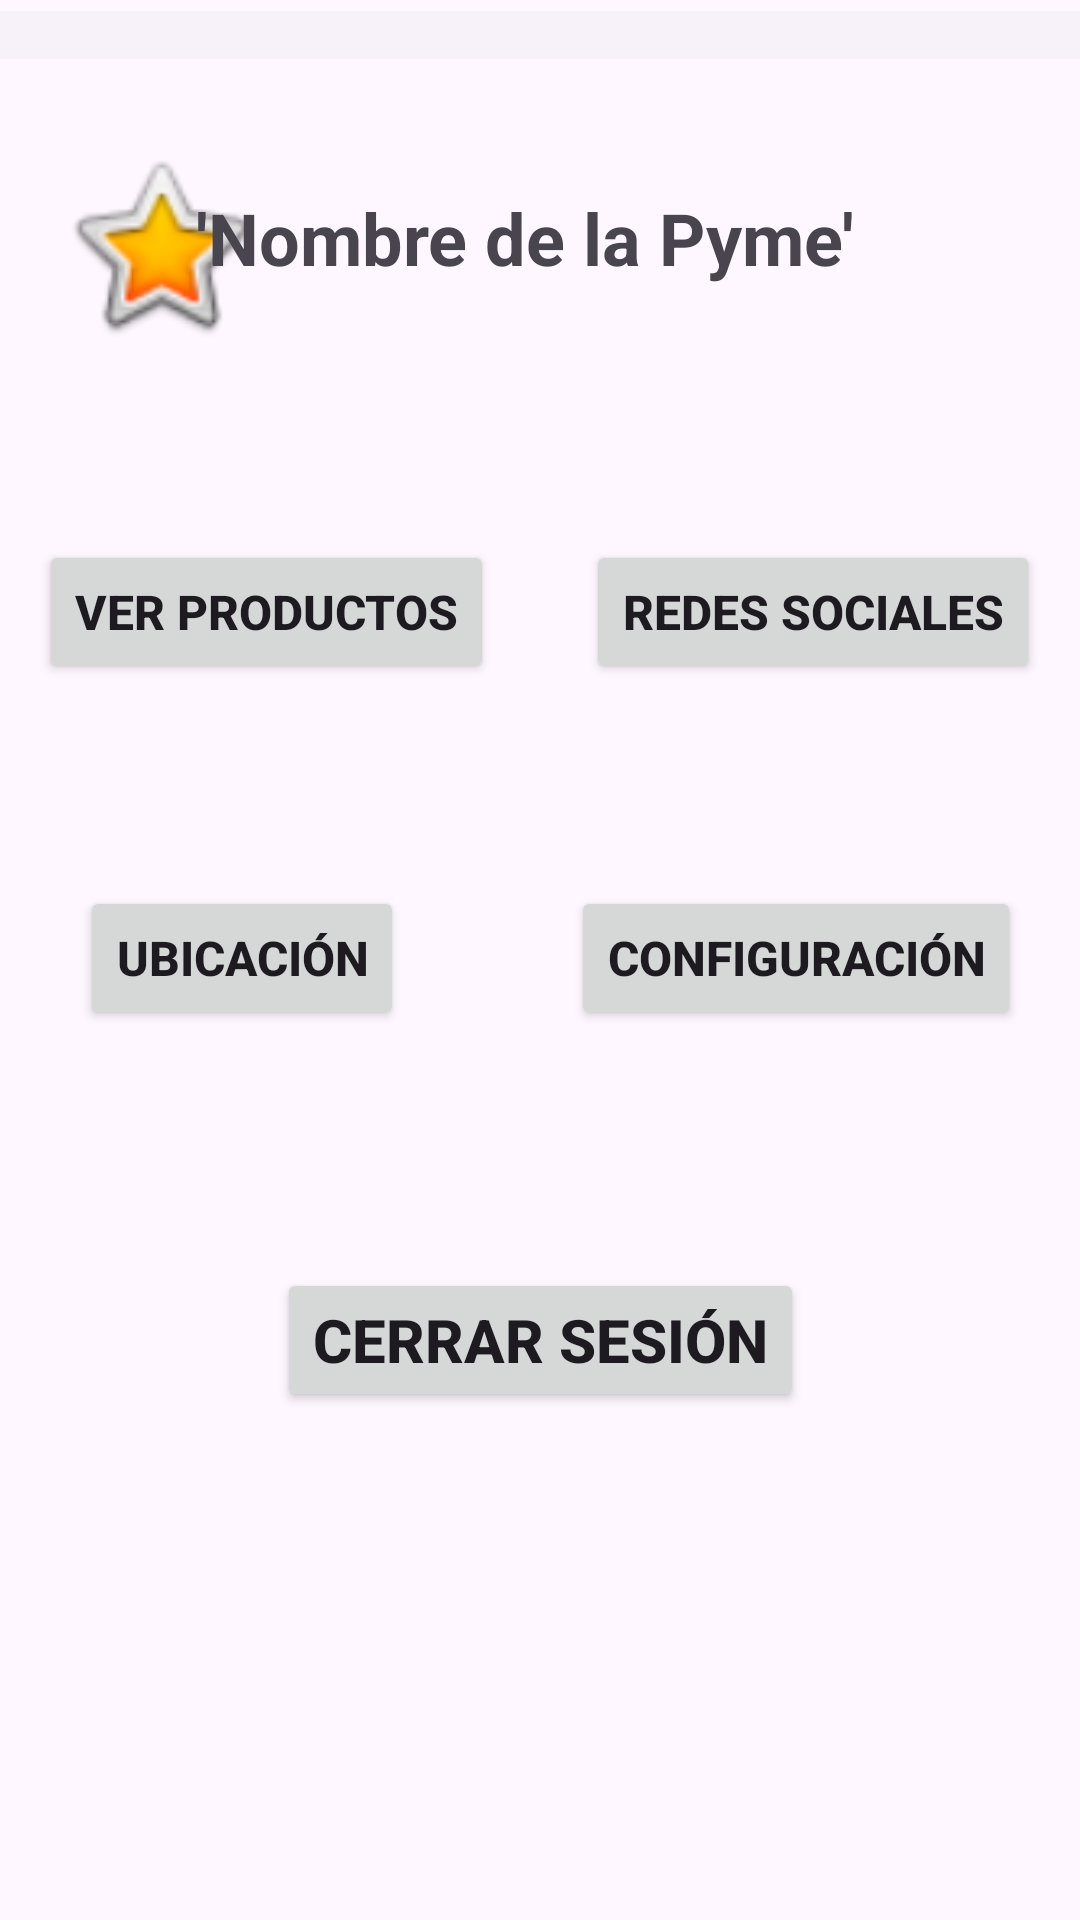

Screen size 1080 × 1920. Icon name, then its center in pixels as (x=x, y=y):
star on: (x=165, y=247)
